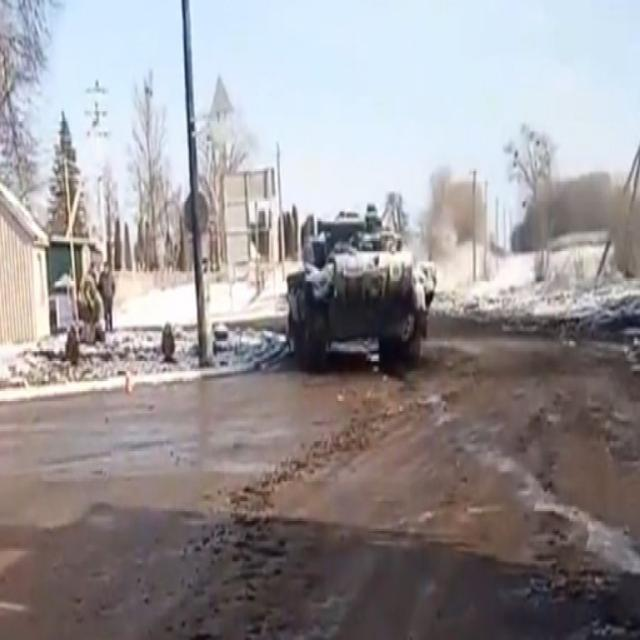TANK: (276, 180, 444, 391)
